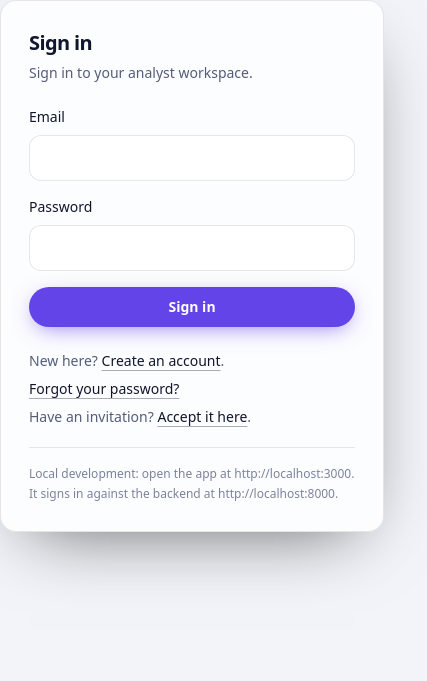
it: sign-in screen › shows fixed copy for a rejected sign-in and never the backend's reason
Type "analyst@example.invalid" into the field labelled "Email". click: (192, 158)
box: [29, 135, 355, 181]
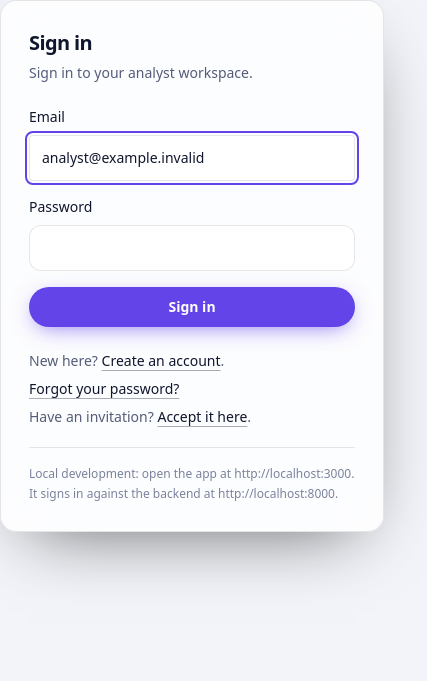
Type "correct horse battery" into the password field labelled "Password". click: (192, 248)
box: [29, 225, 355, 271]
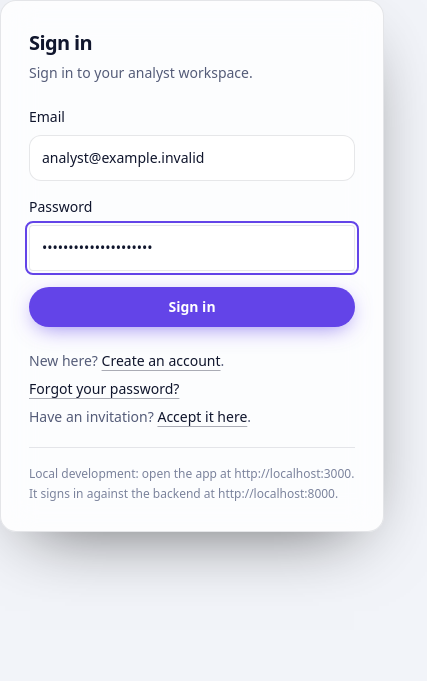
Click the button "Sign in". click: click(192, 307)
box: [29, 287, 355, 327]
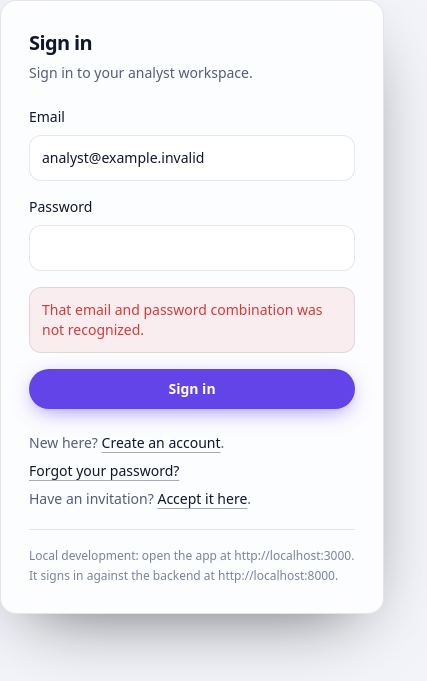
Expected: the message does not show "no user row", [29, 287, 355, 353]
Result: the message shows "That email and password combination was not recognized" at [42, 300, 322, 339]
